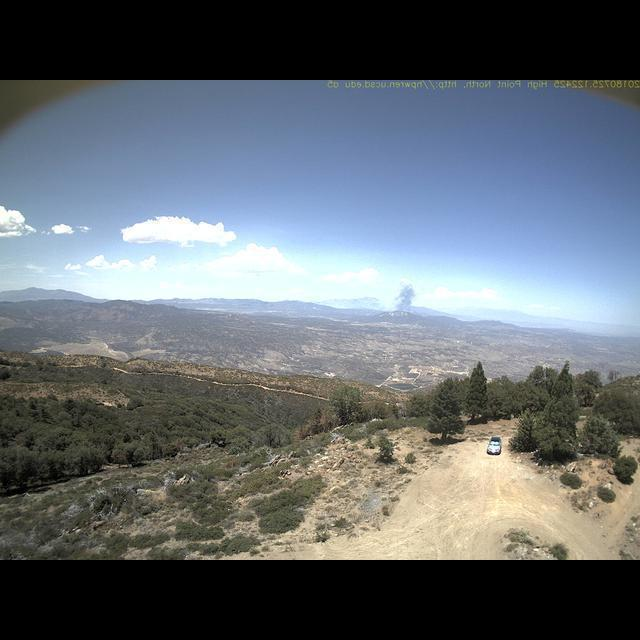Smoke: (391, 279, 421, 315)
